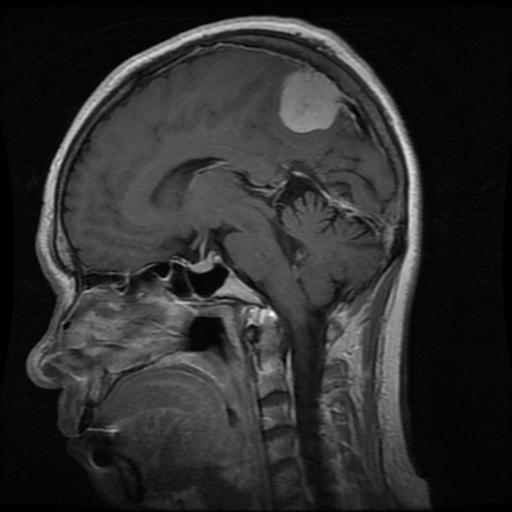Menigiomia_tumour: (279, 70, 341, 132)
